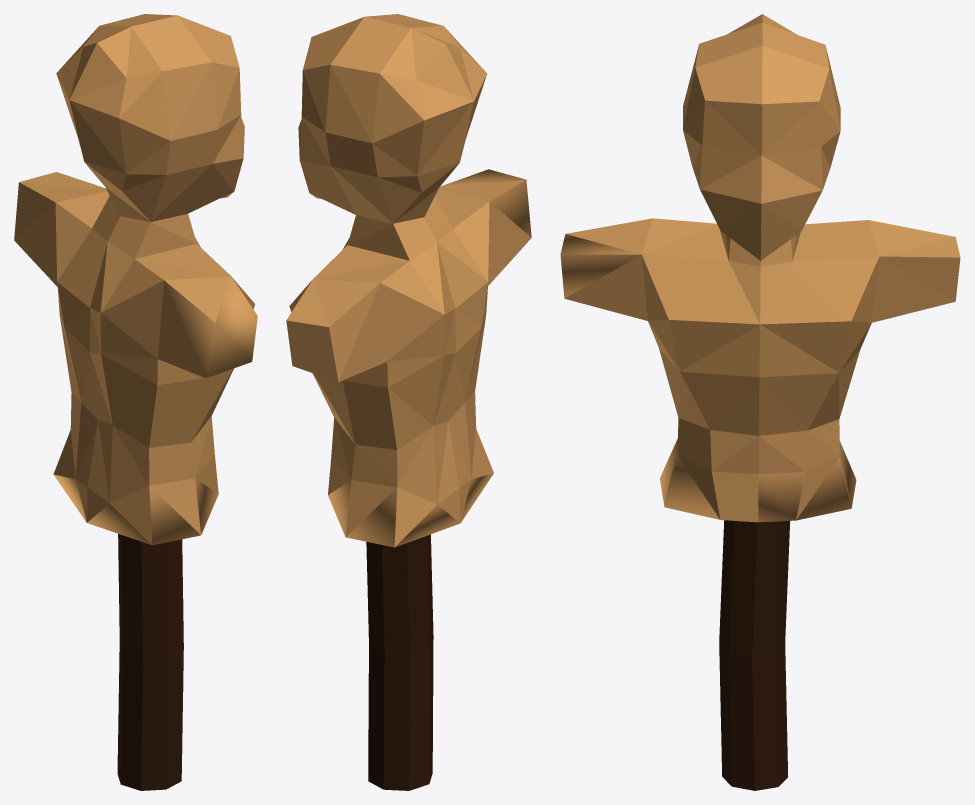
File: Training Dummy.fbx
3 renders of one model, left to right at view 1: azimuth 30°, elevation 25°; view 2: azimuth 150°, elevation 25°; view 3: azimuth 270°, elevation 25°, orthographic.
Parts seen in each view (by area): view 1: Ludek, Circle; view 2: Ludek, Circle; view 3: Ludek, Circle.
Boxes of the visible parts, box(x1,y1,x2,y2) form: Ludek: box(14, 14, 257, 545); Circle: box(117, 534, 183, 790); Ludek: box(286, 14, 531, 547); Circle: box(366, 534, 433, 790); Ludek: box(560, 14, 960, 522); Circle: box(719, 520, 790, 790).
Size of the model in its own units: 1212 by 609 by 2498.
